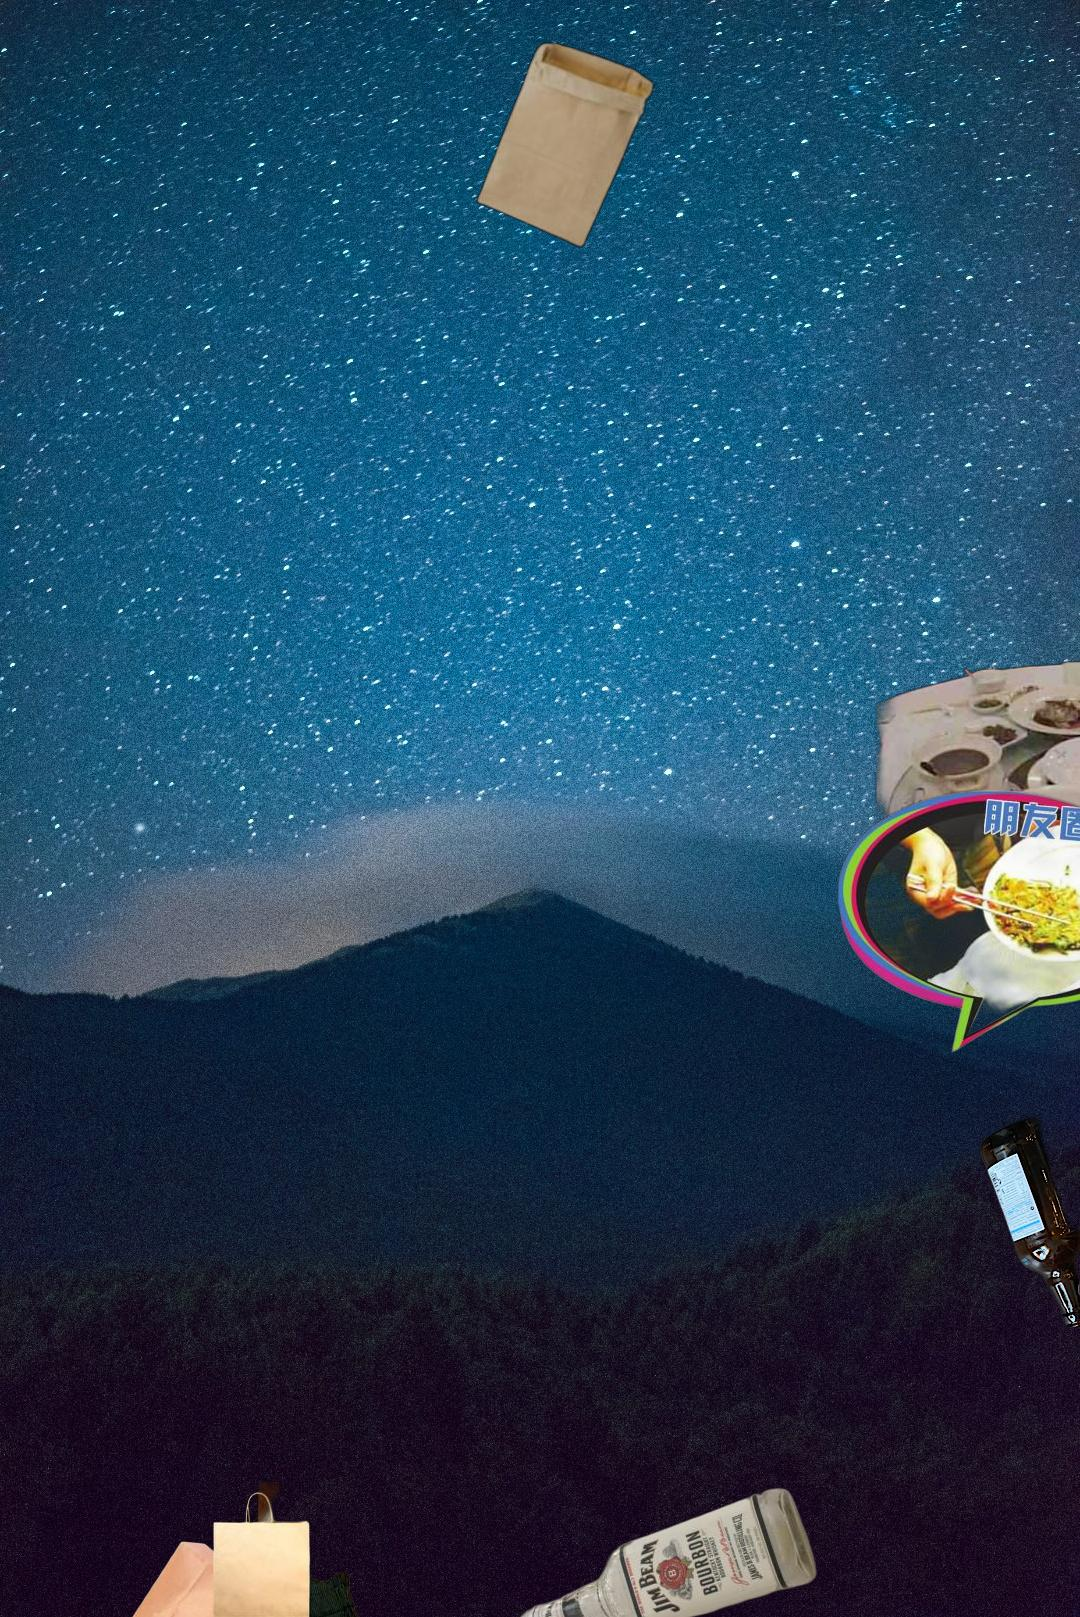biological: (835, 790, 1080, 1056), (874, 647, 1080, 943)
clothes: (111, 1559, 408, 1617)
glass: (515, 1484, 821, 1617), (976, 1112, 1080, 1335)
paper-bag: (474, 39, 657, 250), (121, 1482, 313, 1617)
